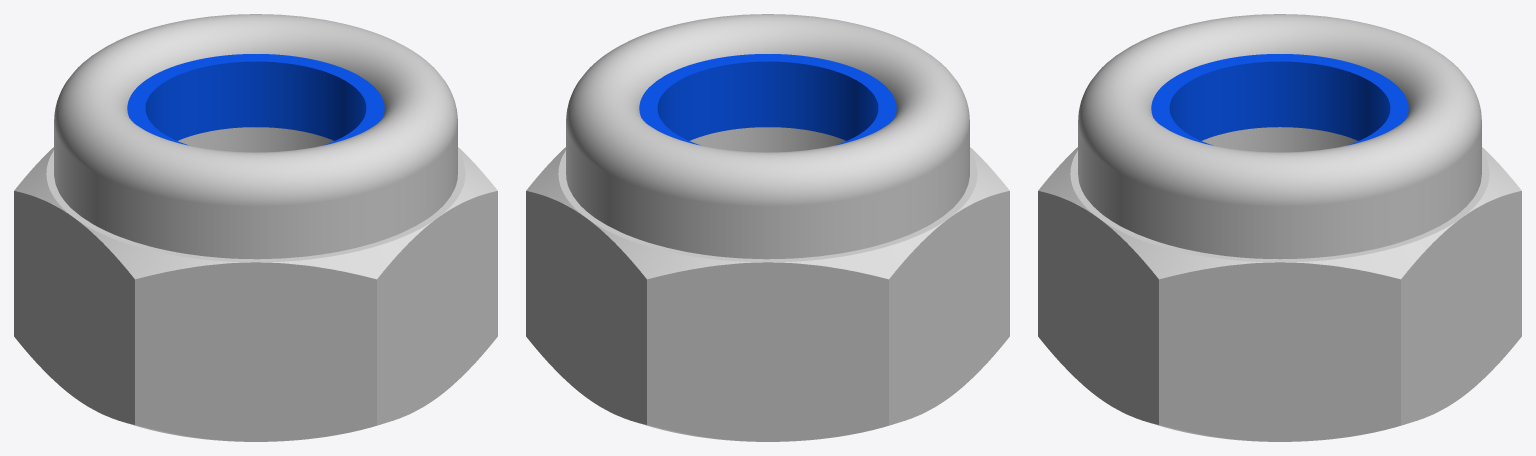
File: nyloc_nut_m3.glb
3 views of the same model, side by side, from view 1: azimuth 30°, elevation 25°; view 2: azimuth 150°, elevation 25°; view 3: azimuth 270°, elevation 25° (orthographic).
Parts seen in each view (by area): view 1: nut; view 2: nut; view 3: nut.
Boxes of the visible parts, x1,y1,x2,y2 form: nut: (14, 14, 497, 441); nut: (526, 14, 1009, 441); nut: (1038, 14, 1521, 441).
Bounding box in the file's own units: 0.0055 × 0.00386 × 0.00635.
